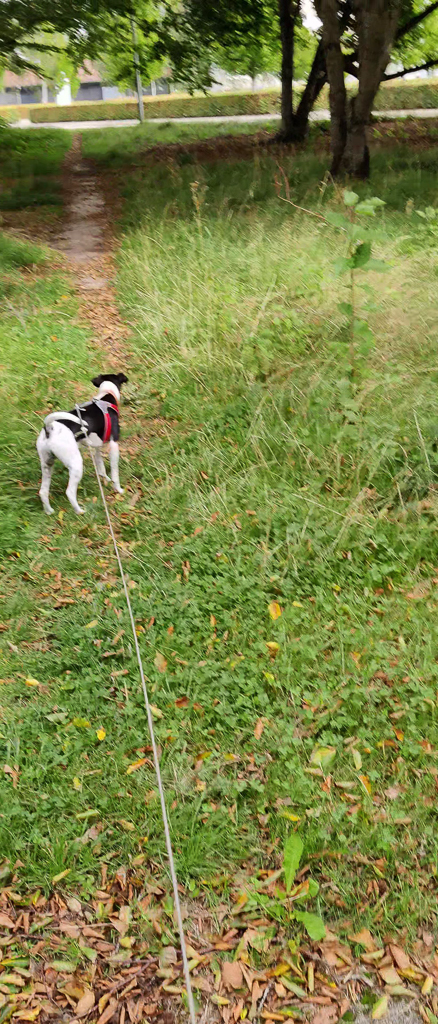Dog: (28, 355, 143, 523)
